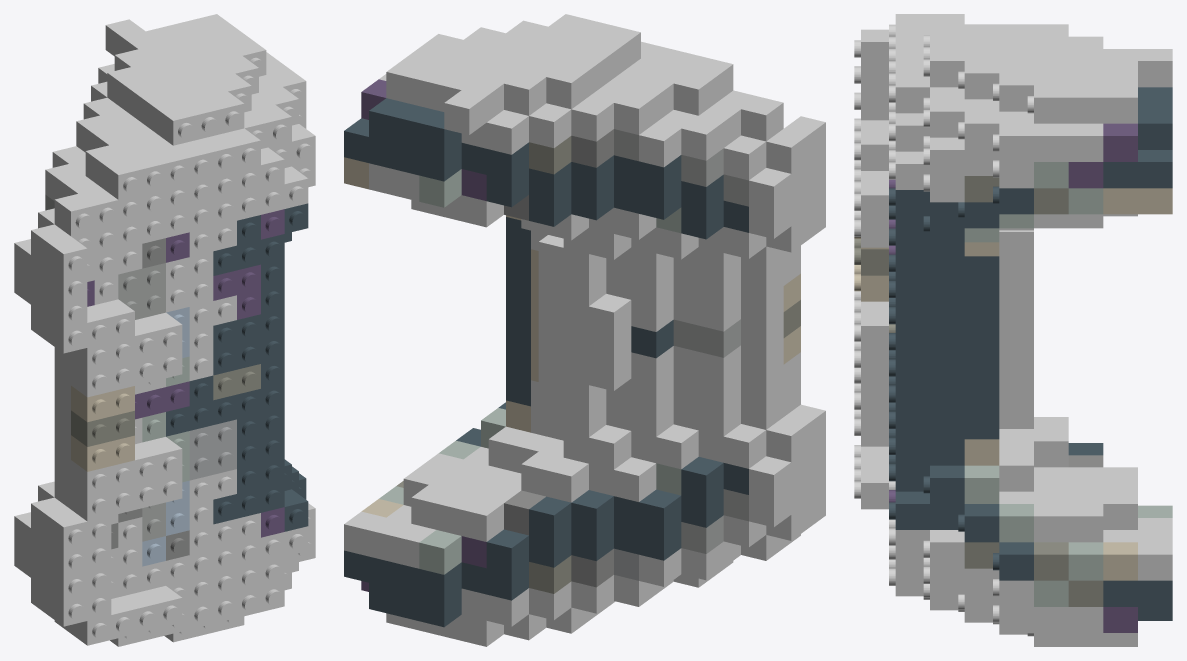
The model's file is full.glb.
3 views of the same model, side by side, from view 1: azimuth 30°, elevation 25°; view 2: azimuth 150°, elevation 25°; view 3: azimuth 270°, elevation 25° (orthographic). The views are drawn at different scales.
Parts seen in each view (by area): view 1: world; view 2: world; view 3: world.
Part boxes in pixels (box(x1,y1,x2,y2)): world: box(14, 14, 315, 646); world: box(344, 14, 825, 646); world: box(854, 14, 1172, 646).
Size of the model in its own units: 104 by 168 by 88.2.
